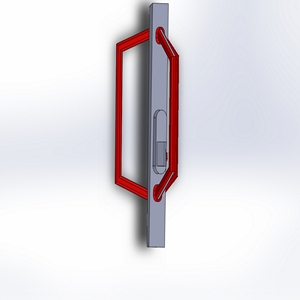submarine: (98, 1, 198, 259)
